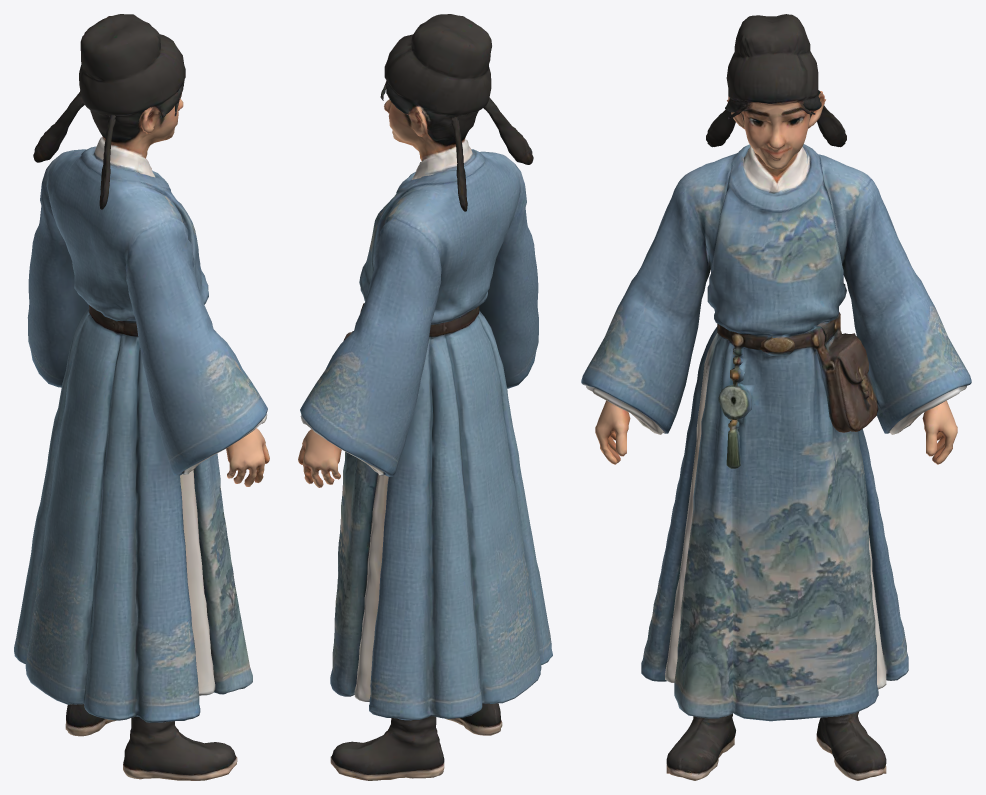
The model's file is tangao.glb.
3 views of the same model, side by side, from view 1: azimuth 30°, elevation 25°; view 2: azimuth 150°, elevation 25°; view 3: azimuth 270°, elevation 25° (orthographic).
Parts seen in each view (by area): view 1: tripo_node_06de34b4-981b-4ddc-9315-d4bb04ca5376; view 2: tripo_node_06de34b4-981b-4ddc-9315-d4bb04ca5376; view 3: tripo_node_06de34b4-981b-4ddc-9315-d4bb04ca5376.
Part boxes in pixels (left/top/right/bottom): tripo_node_06de34b4-981b-4ddc-9315-d4bb04ca5376: left=14, top=14, right=269, bottom=780; tripo_node_06de34b4-981b-4ddc-9315-d4bb04ca5376: left=298, top=14, right=552, bottom=780; tripo_node_06de34b4-981b-4ddc-9315-d4bb04ca5376: left=581, top=14, right=971, bottom=780.
Size of the model in its own units: 0.2446 by 1 by 0.4833.
1 material, 1 textured.
